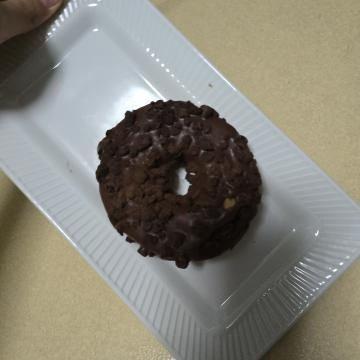doughnut: (89, 95, 279, 274)
